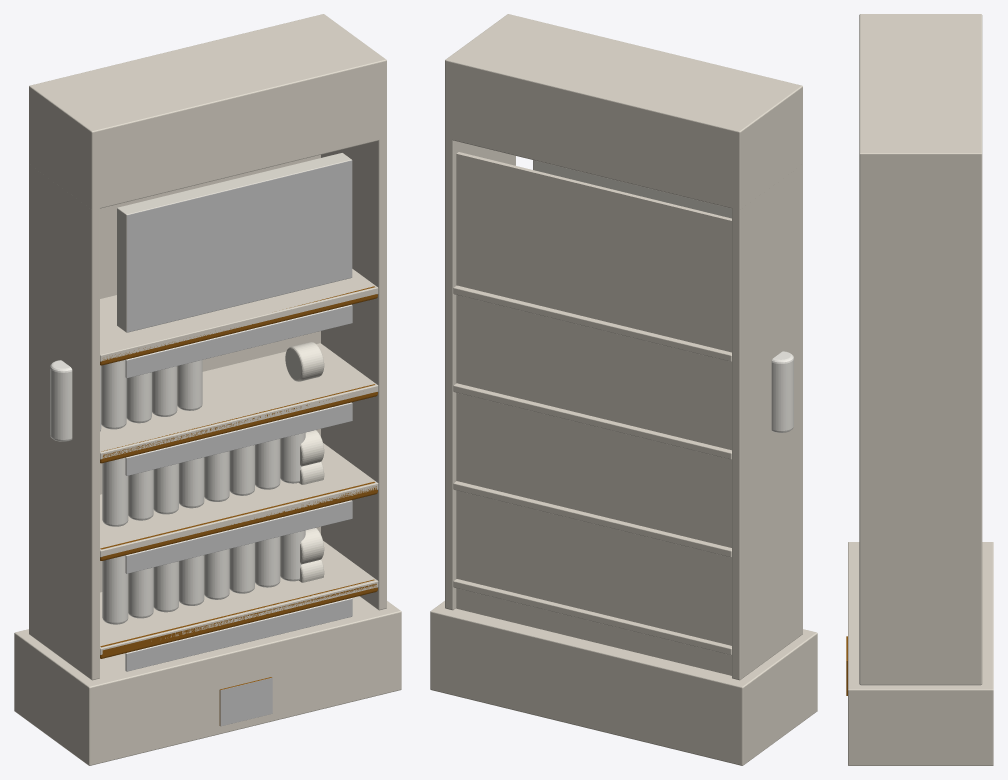
The model's file is display_rack_2.obj.
3 views of the same model, side by side, from view 1: azimuth 30°, elevation 25°; view 2: azimuth 150°, elevation 25°; view 3: azimuth 270°, elevation 25° (orthographic). The views are drawn at different scales.
Visible parts, largest first — view 1: frame.crown, base.plinth, panel.side_1, frame.header, panel.side_2, shelf.deck_3, shelf.deck_2, shelf.deck_1, shelf.deck_4, shelf.talker_4, shelf.talker_1, shelf.talker_2 (+31 smaller); view 2: frame.back, frame.crown, base.plinth, panel.side_1, panel.side_2, shelf.deck_3, shelf.deck_2, shelf.deck_1, shelf.deck_4, frame.header, product.pump.s2_1; view 3: panel.side_2, frame.crown, base.plinth.
Boxes of the visible parts, x1,y1,x2,y2 form: frame.crown: [29, 14, 386, 209]; base.plinth: [14, 596, 401, 765]; panel.side_1: [29, 131, 99, 680]; frame.header: [117, 153, 352, 332]; panel.side_2: [321, 61, 386, 610]; shelf.deck_3: [100, 343, 378, 459]; shelf.deck_2: [100, 443, 378, 557]; shelf.deck_1: [100, 541, 378, 654]; shelf.deck_4: [100, 269, 378, 361]; shelf.talker_4: [125, 304, 352, 378]; shelf.talker_1: [125, 598, 352, 671]; shelf.talker_2: [125, 500, 352, 573]; frame.back: [456, 152, 731, 675]; frame.crown: [445, 14, 802, 209]; base.plinth: [430, 601, 817, 765]; panel.side_1: [732, 131, 802, 680]; panel.side_2: [445, 61, 515, 610]; shelf.deck_3: [453, 383, 731, 459]; shelf.deck_2: [453, 481, 731, 557]; shelf.deck_1: [453, 579, 731, 655]; shelf.deck_4: [453, 285, 731, 361]; frame.header: [533, 160, 731, 218]; product.pump.s2_1: [771, 351, 793, 432]; panel.side_2: [859, 229, 982, 685]; frame.crown: [859, 14, 982, 228]; base.plinth: [848, 542, 993, 765].
Bounding box in the file's own units: 0.9313 × 1.75 × 0.3854.
